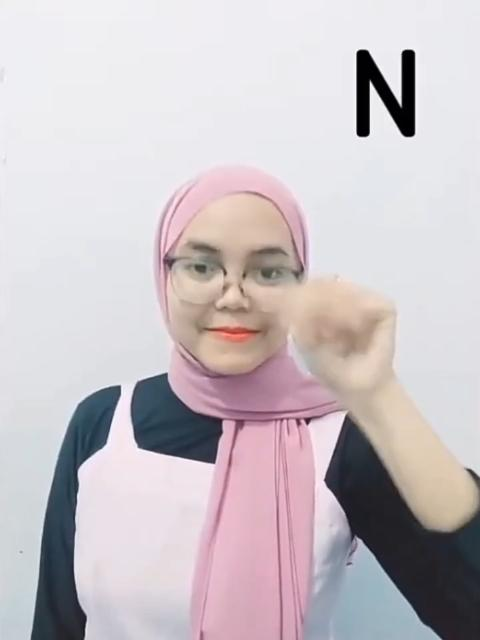N: (287, 270, 416, 406)
